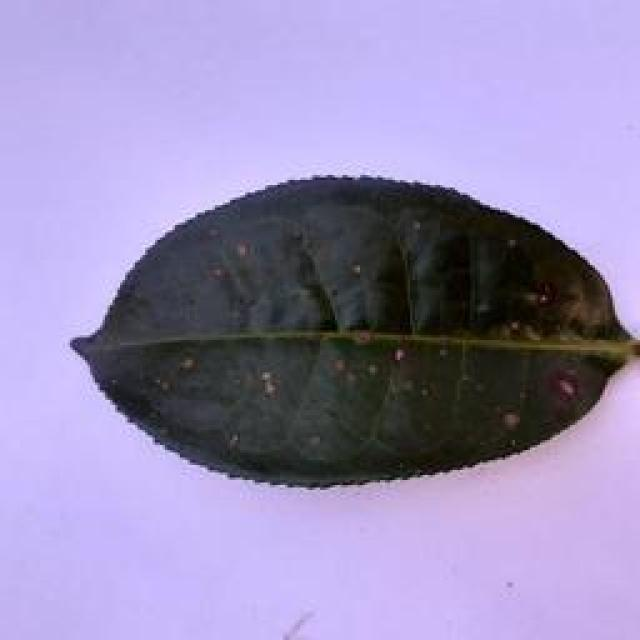Algal Leaf Spot: (64, 163, 640, 512)
